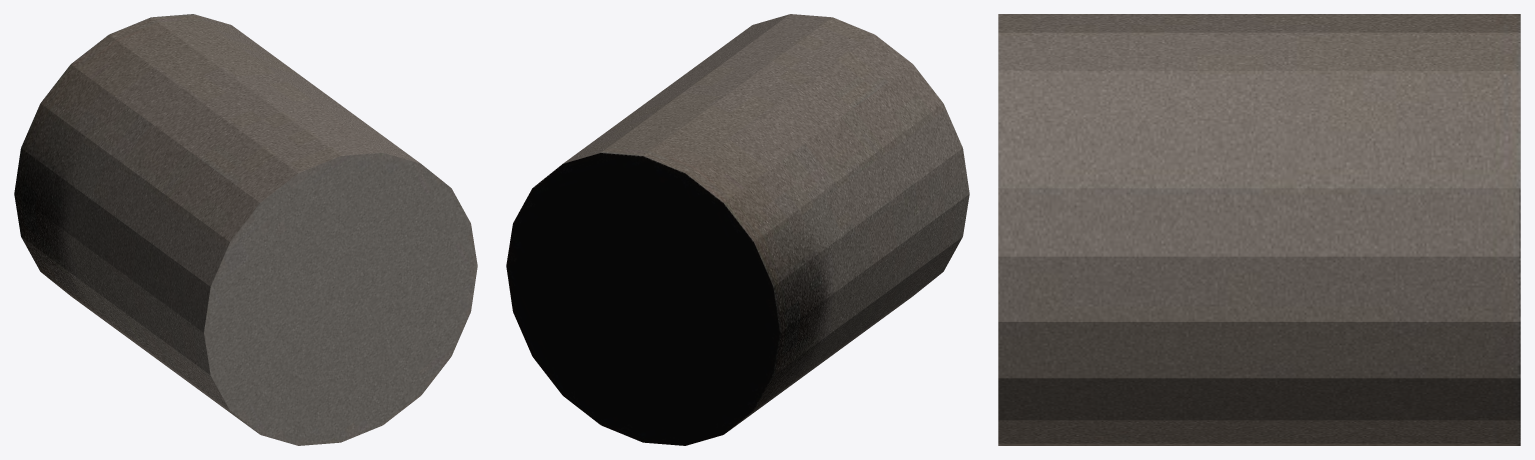
3 views of the same model, side by side, from view 1: azimuth 30°, elevation 25°; view 2: azimuth 150°, elevation 25°; view 3: azimuth 270°, elevation 25° (orthographic). The views are drawn at different scales.
Parts seen in each view (by area): view 1: A10_bin.001; view 2: A10_bin.001; view 3: A10_bin.001.
Boxes of the visible parts, x1,y1,x2,y2 form: A10_bin.001: (14, 14, 477, 445); A10_bin.001: (506, 14, 969, 445); A10_bin.001: (998, 14, 1520, 445).
Size of the model in its own units: 0.25 by 0.25 by 0.3.
1 material, 1 textured.
